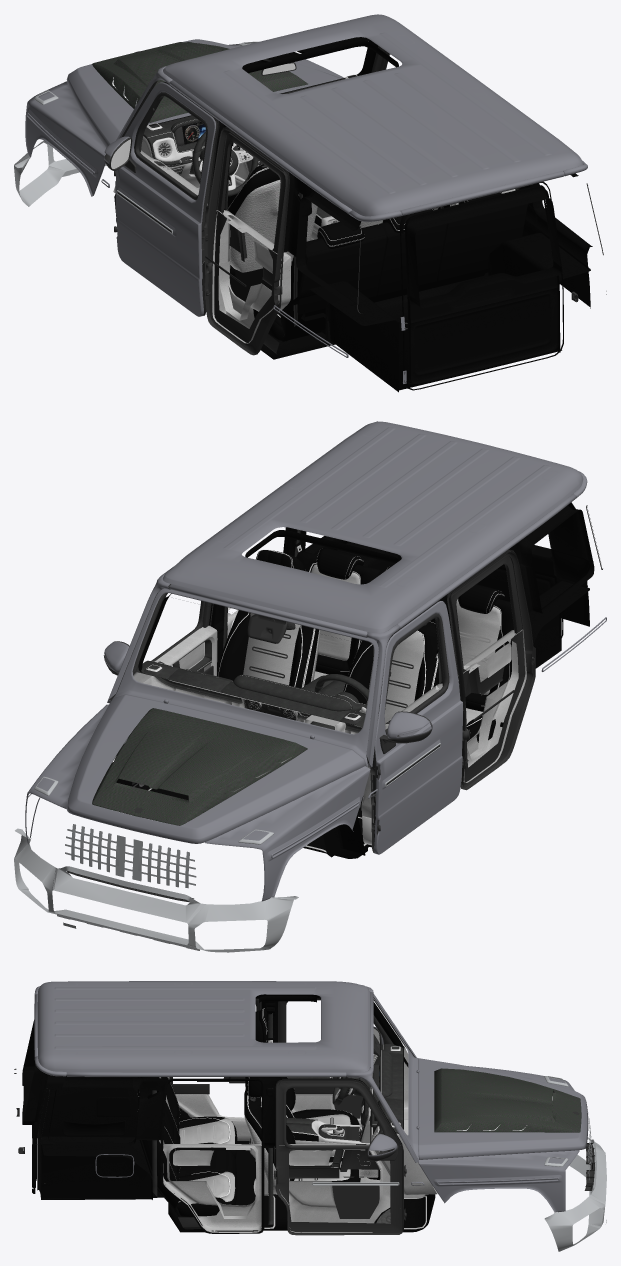
File: brabus-g700-cockpit.glb
3 views of the same model, one above another, from view 1: azimuth 30°, elevation 25°; view 2: azimuth 150°, elevation 25°; view 3: azimuth 270°, elevation 25° (orthographic). The views are drawn at different scales.
Parts seen in each view (by area): view 1: Object_223, Object_94, Object_108, Object_24, Object_279, Object_196, Object_295, Object_144, Object_174, steering_wheel, Object_261; view 2: Object_223, Object_295, Object_24, Object_94, Object_144, Object_108, Object_196, Object_279, Object_174, Object_88, steering_wheel; view 3: Object_223, Object_94, Object_24, Object_196, Object_295, Object_108, Object_174, Object_144, Object_279, Object_261, Object_88.
Part boxes in pixels (x1,y1,x2,y2): Object_223: (25,14,587,383); Object_94: (114,37,592,392); Object_108: (227,164,527,341); Object_24: (113,136,515,343); Object_279: (117,129,287,352); Object_196: (102,46,606,382); Object_295: (92,42,307,122); Object_144: (14,41,258,234); Object_174: (143,76,519,326); steering_wheel: (185,131,257,196); Object_261: (146,74,357,223); Object_223: (25,421,606,901); Object_295: (92,708,307,825); Object_24: (114,564,526,852); Object_94: (116,502,594,858); Object_144: (14,743,440,952); Object_108: (217,548,514,742); Object_196: (67,505,602,902); Object_279: (203,551,532,787); Object_174: (133,529,441,732); Object_88: (188,549,504,726); steering_wheel: (314,674,368,712); Object_223: (34,981,588,1212); Object_94: (22,994,435,1233); Object_24: (159,1047,437,1232); Object_196: (14,997,595,1235); Object_295: (434,1068,581,1132); Object_108: (137,1008,380,1217); Object_174: (152,1013,404,1224); Object_144: (312,1076,606,1251); Object_279: (169,998,371,1178); Object_261: (249,1040,400,1165); Object_88: (138,1008,383,1202).
Size of the model in its own units: 2.25 by 1.61 by 4.55.
18 materials, 10 textured.
